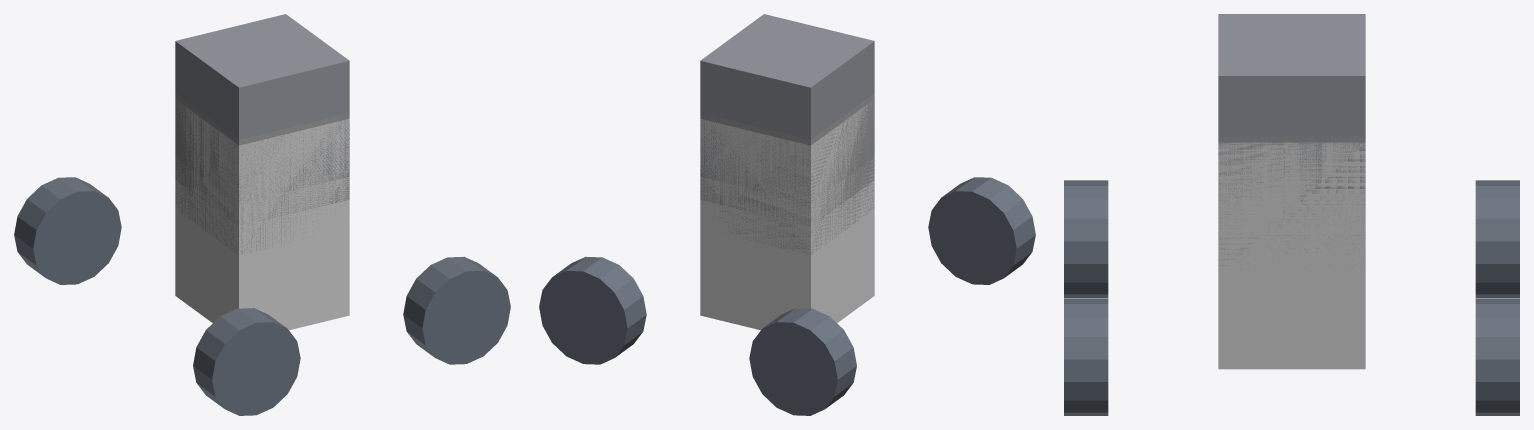
Rendered from veh_car_suv_white.glb.
3 views of the same model, side by side, from view 1: azimuth 30°, elevation 25°; view 2: azimuth 150°, elevation 25°; view 3: azimuth 270°, elevation 25° (orthographic). The views are drawn at different scales.
Visible parts, largest first — view 1: world; view 2: world; view 3: world.
Boxes of the visible parts, x1=… form: world: x1=14, y1=14, x2=510, y2=415; world: x1=539, y1=14, x2=1035, y2=415; world: x1=1064, y1=14, x2=1519, y2=415.
Bounding box in the file's own units: 2.7 × 2.3 × 3.1.
